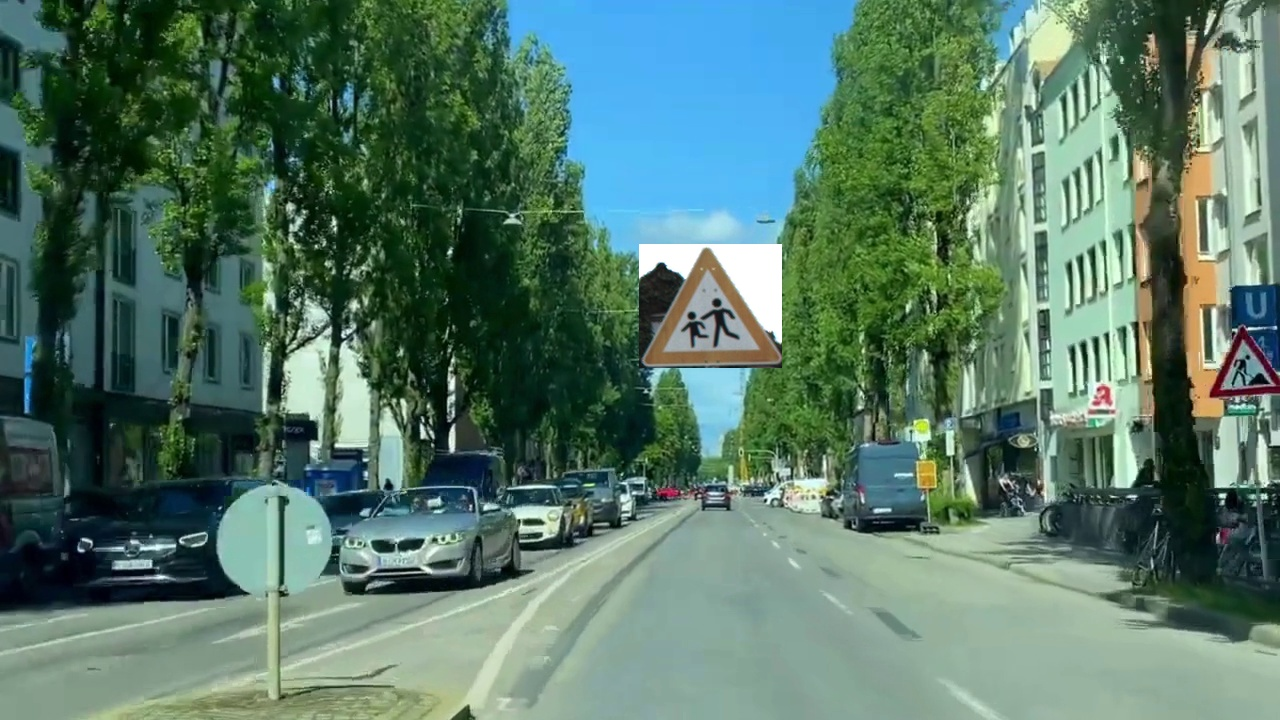Children: (639, 244, 782, 368)
